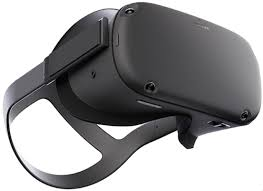oculus: (59, 3, 261, 149)
